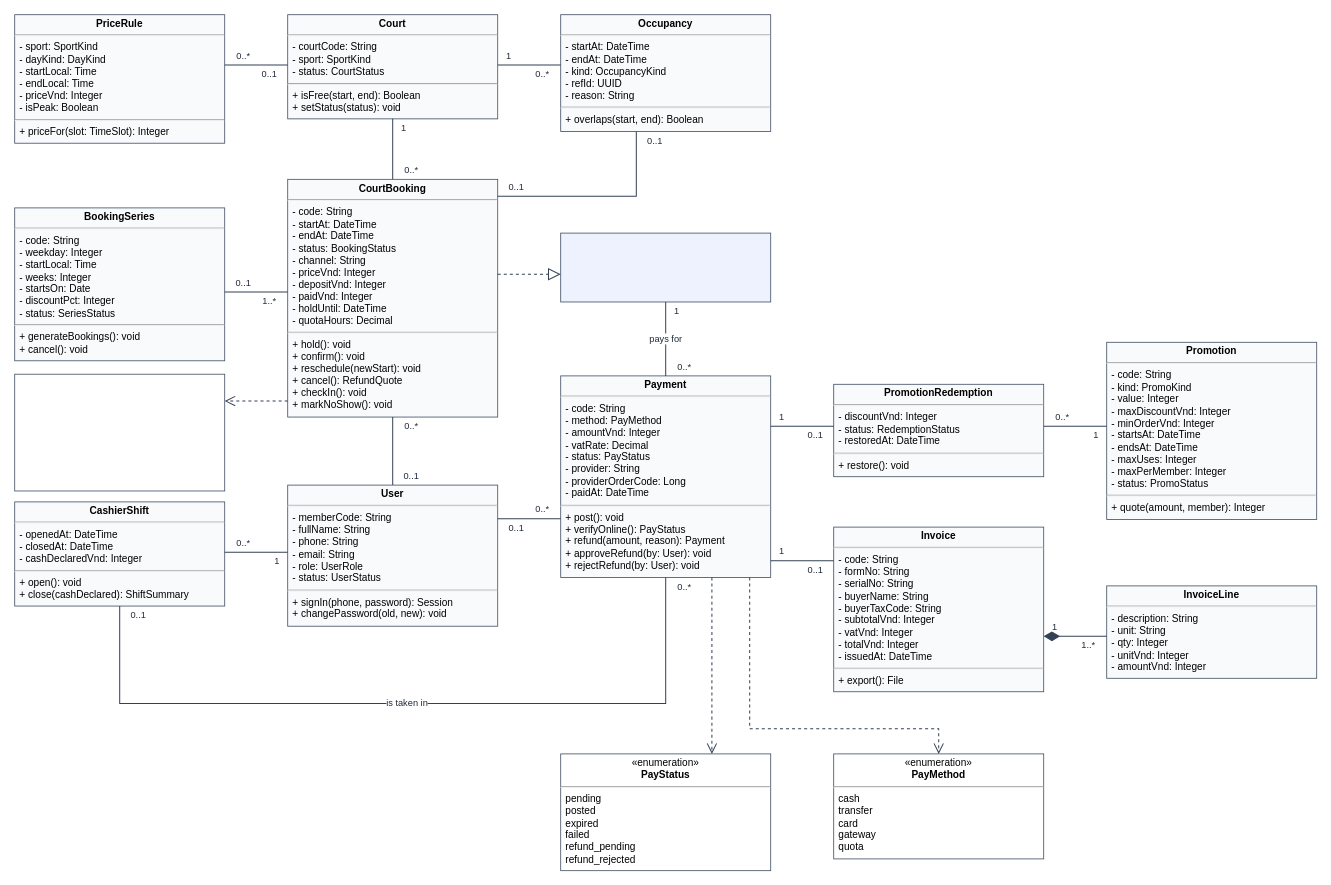
Image size: 1331x885. Some labels were removed from this diagram. Here are the shapes that lost their labels. From the top down, the centre of each, then its label:
the point at 665,267: «interface» Payable + amountDue(): Integer + settle(payment: Payment): void
the point at 119,432: «enumeration» BookingStatus hold confirmed in_use completed cancelled no_show
